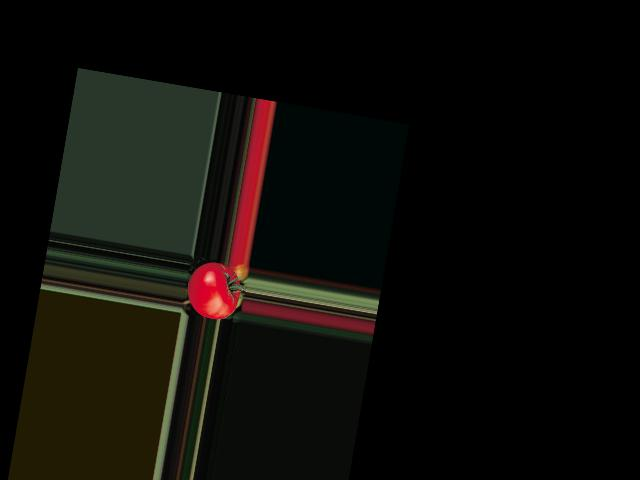tomato: (182, 259, 243, 322)
